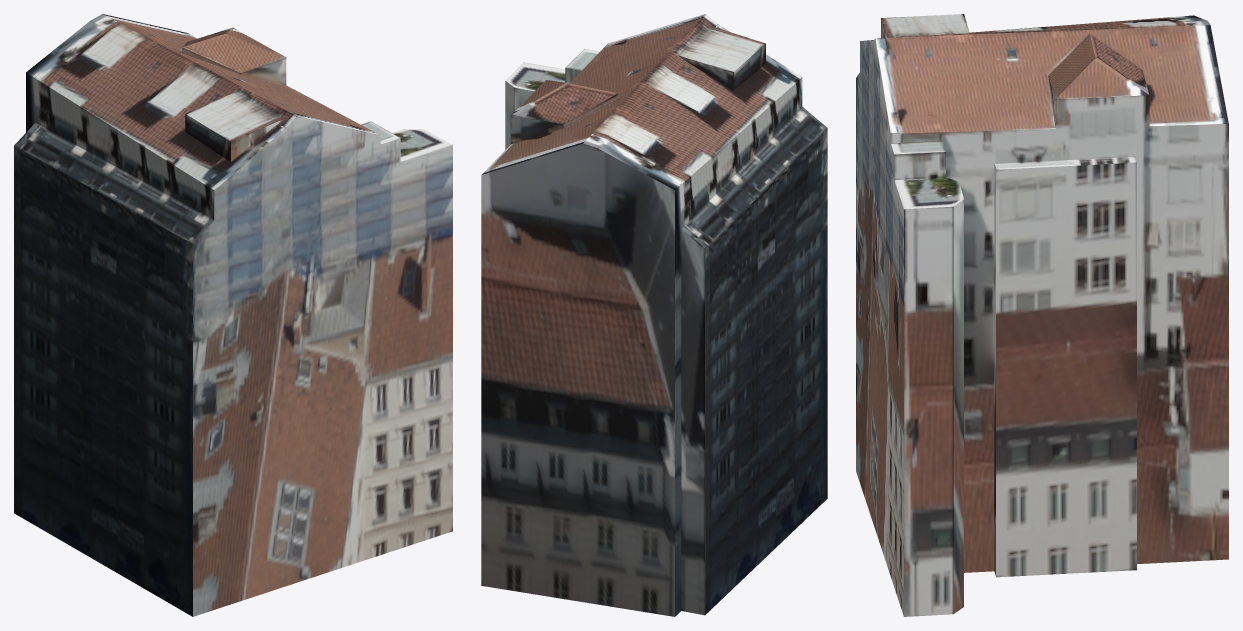
The picture shows the model from 3 angles, left to right: view 1: azimuth 30°, elevation 25°; view 2: azimuth 150°, elevation 25°; view 3: azimuth 270°, elevation 25°; orthographic projection. The views are drawn at different scales.
Parts seen in each view (by area): view 1: Z_UP; view 2: Z_UP; view 3: Z_UP.
Part boxes in pixels (bbox=[...]): Z_UP: bbox=[14, 14, 452, 616]; Z_UP: bbox=[481, 14, 827, 616]; Z_UP: bbox=[856, 14, 1228, 616].
Size of the model in its own units: 24.98 by 35.82 by 24.61.
Materials: 2 (1 with a texture image).
